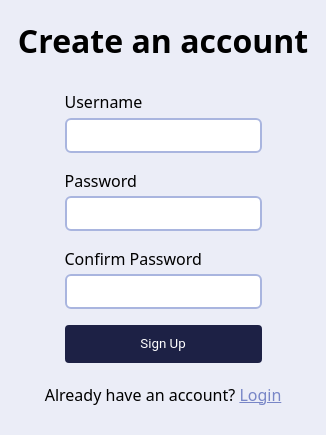
Test: CreateUserView › shows error if password is too short
In the field labelled "Username": (163, 135) top-left (64, 118), bottom-right (262, 153), type "whitney"
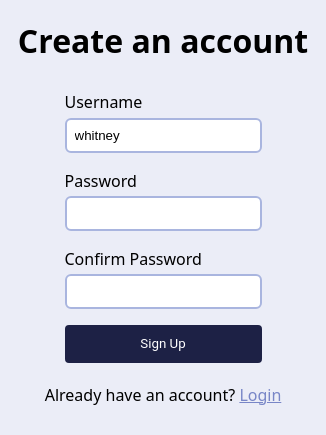
In the password field labelled "Password": (163, 213) top-left (64, 196), bottom-right (262, 231), type "short"
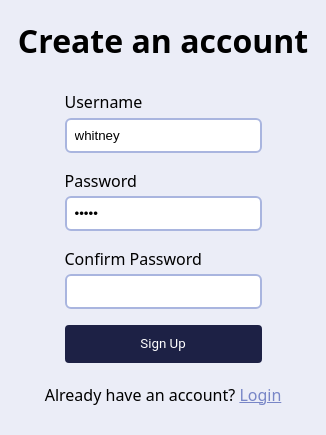
In the password field labelled "Confirm Password": (163, 292) top-left (64, 274), bottom-right (262, 309), type "short"
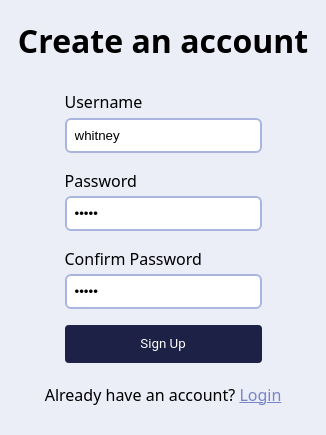
Click the button "Sign Up": (163, 344) top-left (64, 325), bottom-right (262, 363)
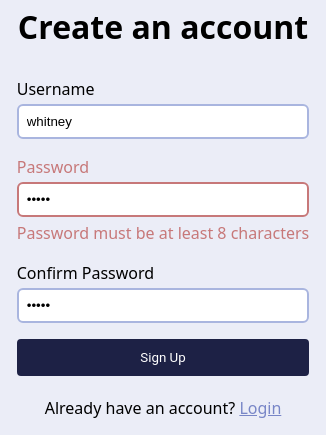
Expected: the text "Password must be at least 8 characters" is shown, top-left (17, 222), bottom-right (309, 244)
